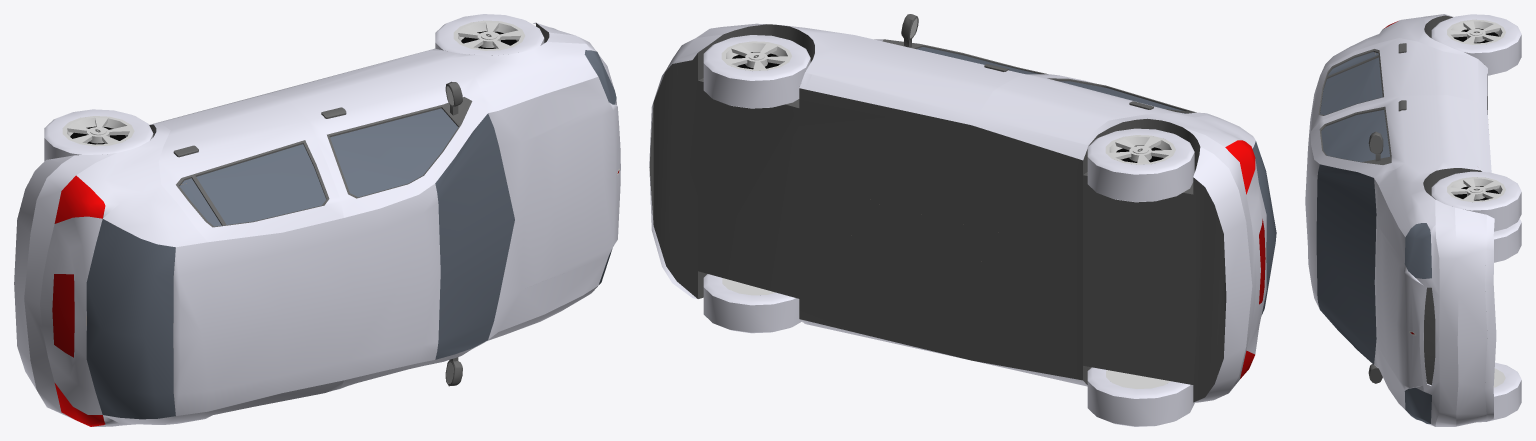
3 renders of one model, left to right at view 1: azimuth 30°, elevation 25°; view 2: azimuth 150°, elevation 25°; view 3: azimuth 270°, elevation 25°, orthographic. The views are drawn at different scales.
Parts seen in each view (by area): view 1: Object_16, Object_4, Object_6, Object_7, Object_5, Object_9; view 2: Object_12, Object_16, Object_7, Object_4, Object_6, Object_5; view 3: Object_16, Object_4, Object_6, Object_7, Object_12, Object_15.
Boxes of the visible parts, x1,y1,x2,y2 form: Object_16: [14, 14, 620, 426]; Object_4: [86, 50, 616, 419]; Object_6: [95, 34, 593, 419]; Object_7: [62, 20, 525, 146]; Object_5: [54, 175, 105, 426]; Object_9: [52, 170, 619, 357]; Object_12: [649, 24, 1226, 402]; Object_16: [649, 23, 1266, 426]; Object_7: [721, 41, 1175, 388]; Object_4: [916, 47, 1276, 314]; Object_6: [753, 14, 1196, 151]; Object_5: [1225, 140, 1255, 378]; Object_16: [1305, 14, 1521, 426]; Object_4: [1316, 52, 1431, 423]; Object_6: [1318, 31, 1479, 385]; Object_7: [1447, 19, 1505, 387]; Object_12: [1423, 15, 1487, 195]; Object_15: [1453, 28, 1498, 200].
Bounding box in the file's own units: 3.6 × 1.76 × 1.37.
